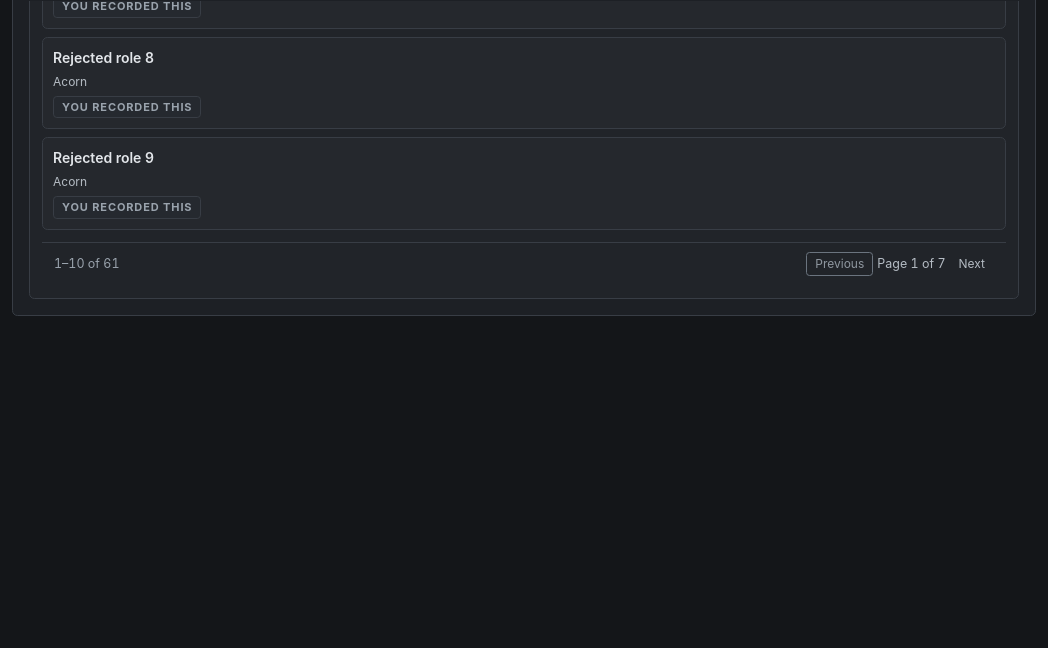
it: shows every populated board stage and pages stages independently
The image size is (1048, 648).
(page scrolled)
Click the button "Next" at (972, 264), box [950, 252, 994, 276]
(page scrolled)
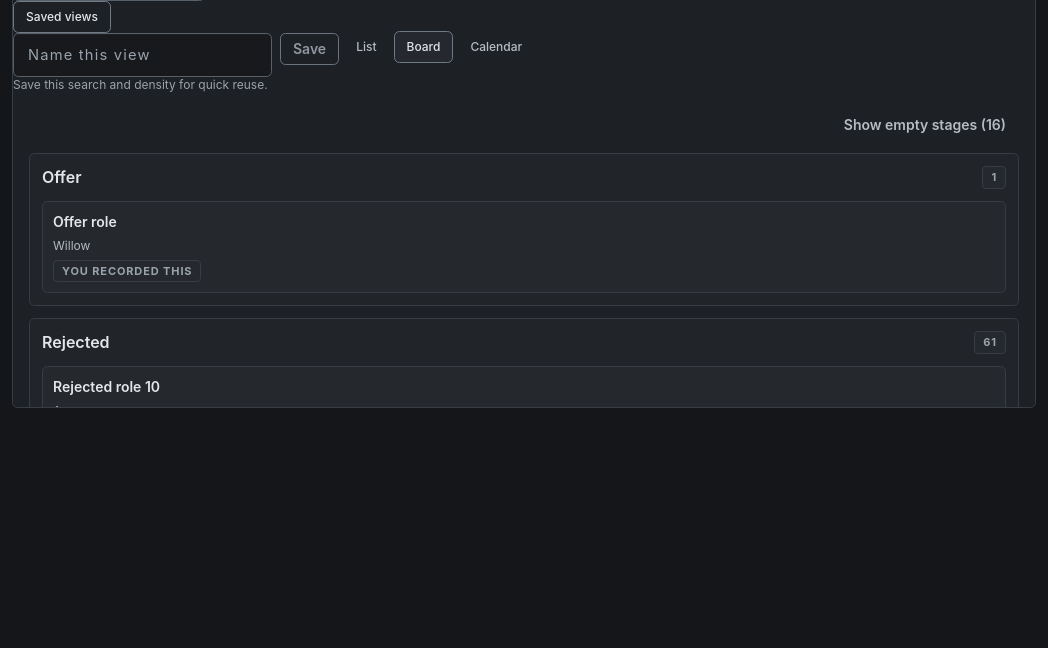
expect the text "Rejected role 10" is shown: met, box [53, 378, 160, 394]
expect the text "Offer role" is shown: met, box [53, 212, 117, 230]
